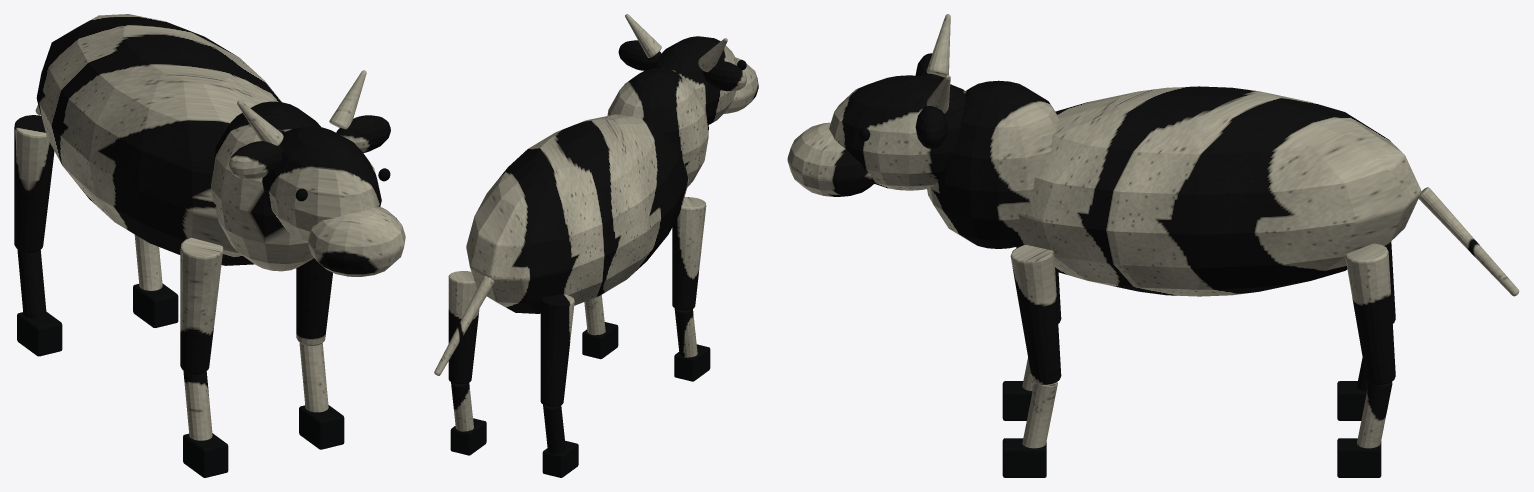
Rendered from PROP-39DEE01F00B0_lod0.glb.
3 views of the same model, side by side, from view 1: azimuth 30°, elevation 25°; view 2: azimuth 150°, elevation 25°; view 3: azimuth 270°, elevation 25° (orthographic). The views are drawn at different scales.
Parts seen in each view (by area): view 1: animal_torso, upper_leg, animal_head, animal_neck, hoof, lower_leg, muzzle, animal_ears, horn; view 2: animal_torso, upper_leg, animal_neck, hoof, lower_leg, animal_head, animal_ears, tail, horn, muzzle; view 3: animal_torso, animal_neck, upper_leg, animal_head, hoof, muzzle, lower_leg, tail, horn, animal_ears.
Boxes of the visible parts, bbox=[...] form: animal_torso: bbox=[36, 14, 281, 265]; upper_leg: bbox=[14, 115, 332, 374]; animal_head: bbox=[262, 126, 381, 242]; animal_neck: bbox=[211, 101, 320, 271]; hoof: bbox=[17, 283, 344, 477]; lower_leg: bbox=[17, 234, 328, 440]; muzzle: bbox=[308, 206, 405, 276]; animal_ears: bbox=[229, 115, 390, 179]; horn: bbox=[237, 70, 366, 145]; animal_torso: bbox=[466, 114, 688, 313]; upper_leg: bbox=[448, 197, 706, 406]; animal_neck: bbox=[607, 68, 708, 187]; hoof: bbox=[450, 322, 710, 477]; lower_leg: bbox=[451, 295, 697, 453]; animal_head: bbox=[650, 36, 737, 124]; animal_ears: bbox=[618, 40, 746, 91]; tail: bbox=[434, 276, 494, 375]; horn: bbox=[625, 14, 727, 72]; muzzle: bbox=[724, 57, 758, 113]; animal_torso: bbox=[1010, 86, 1421, 296]; animal_neck: bbox=[927, 80, 1058, 248]; upper_leg: bbox=[1010, 241, 1395, 384]; animal_head: bbox=[829, 75, 965, 190]; hoof: bbox=[1002, 381, 1381, 477]; muzzle: bbox=[787, 122, 873, 196]; lower_leg: bbox=[1022, 358, 1392, 448]; tail: bbox=[1418, 187, 1519, 296]; horn: bbox=[926, 14, 950, 113]; animal_ears: bbox=[915, 53, 947, 148].
Size of the model in its own units: 0.7 by 1.5 by 2.49.
3 materials, 3 textured.
